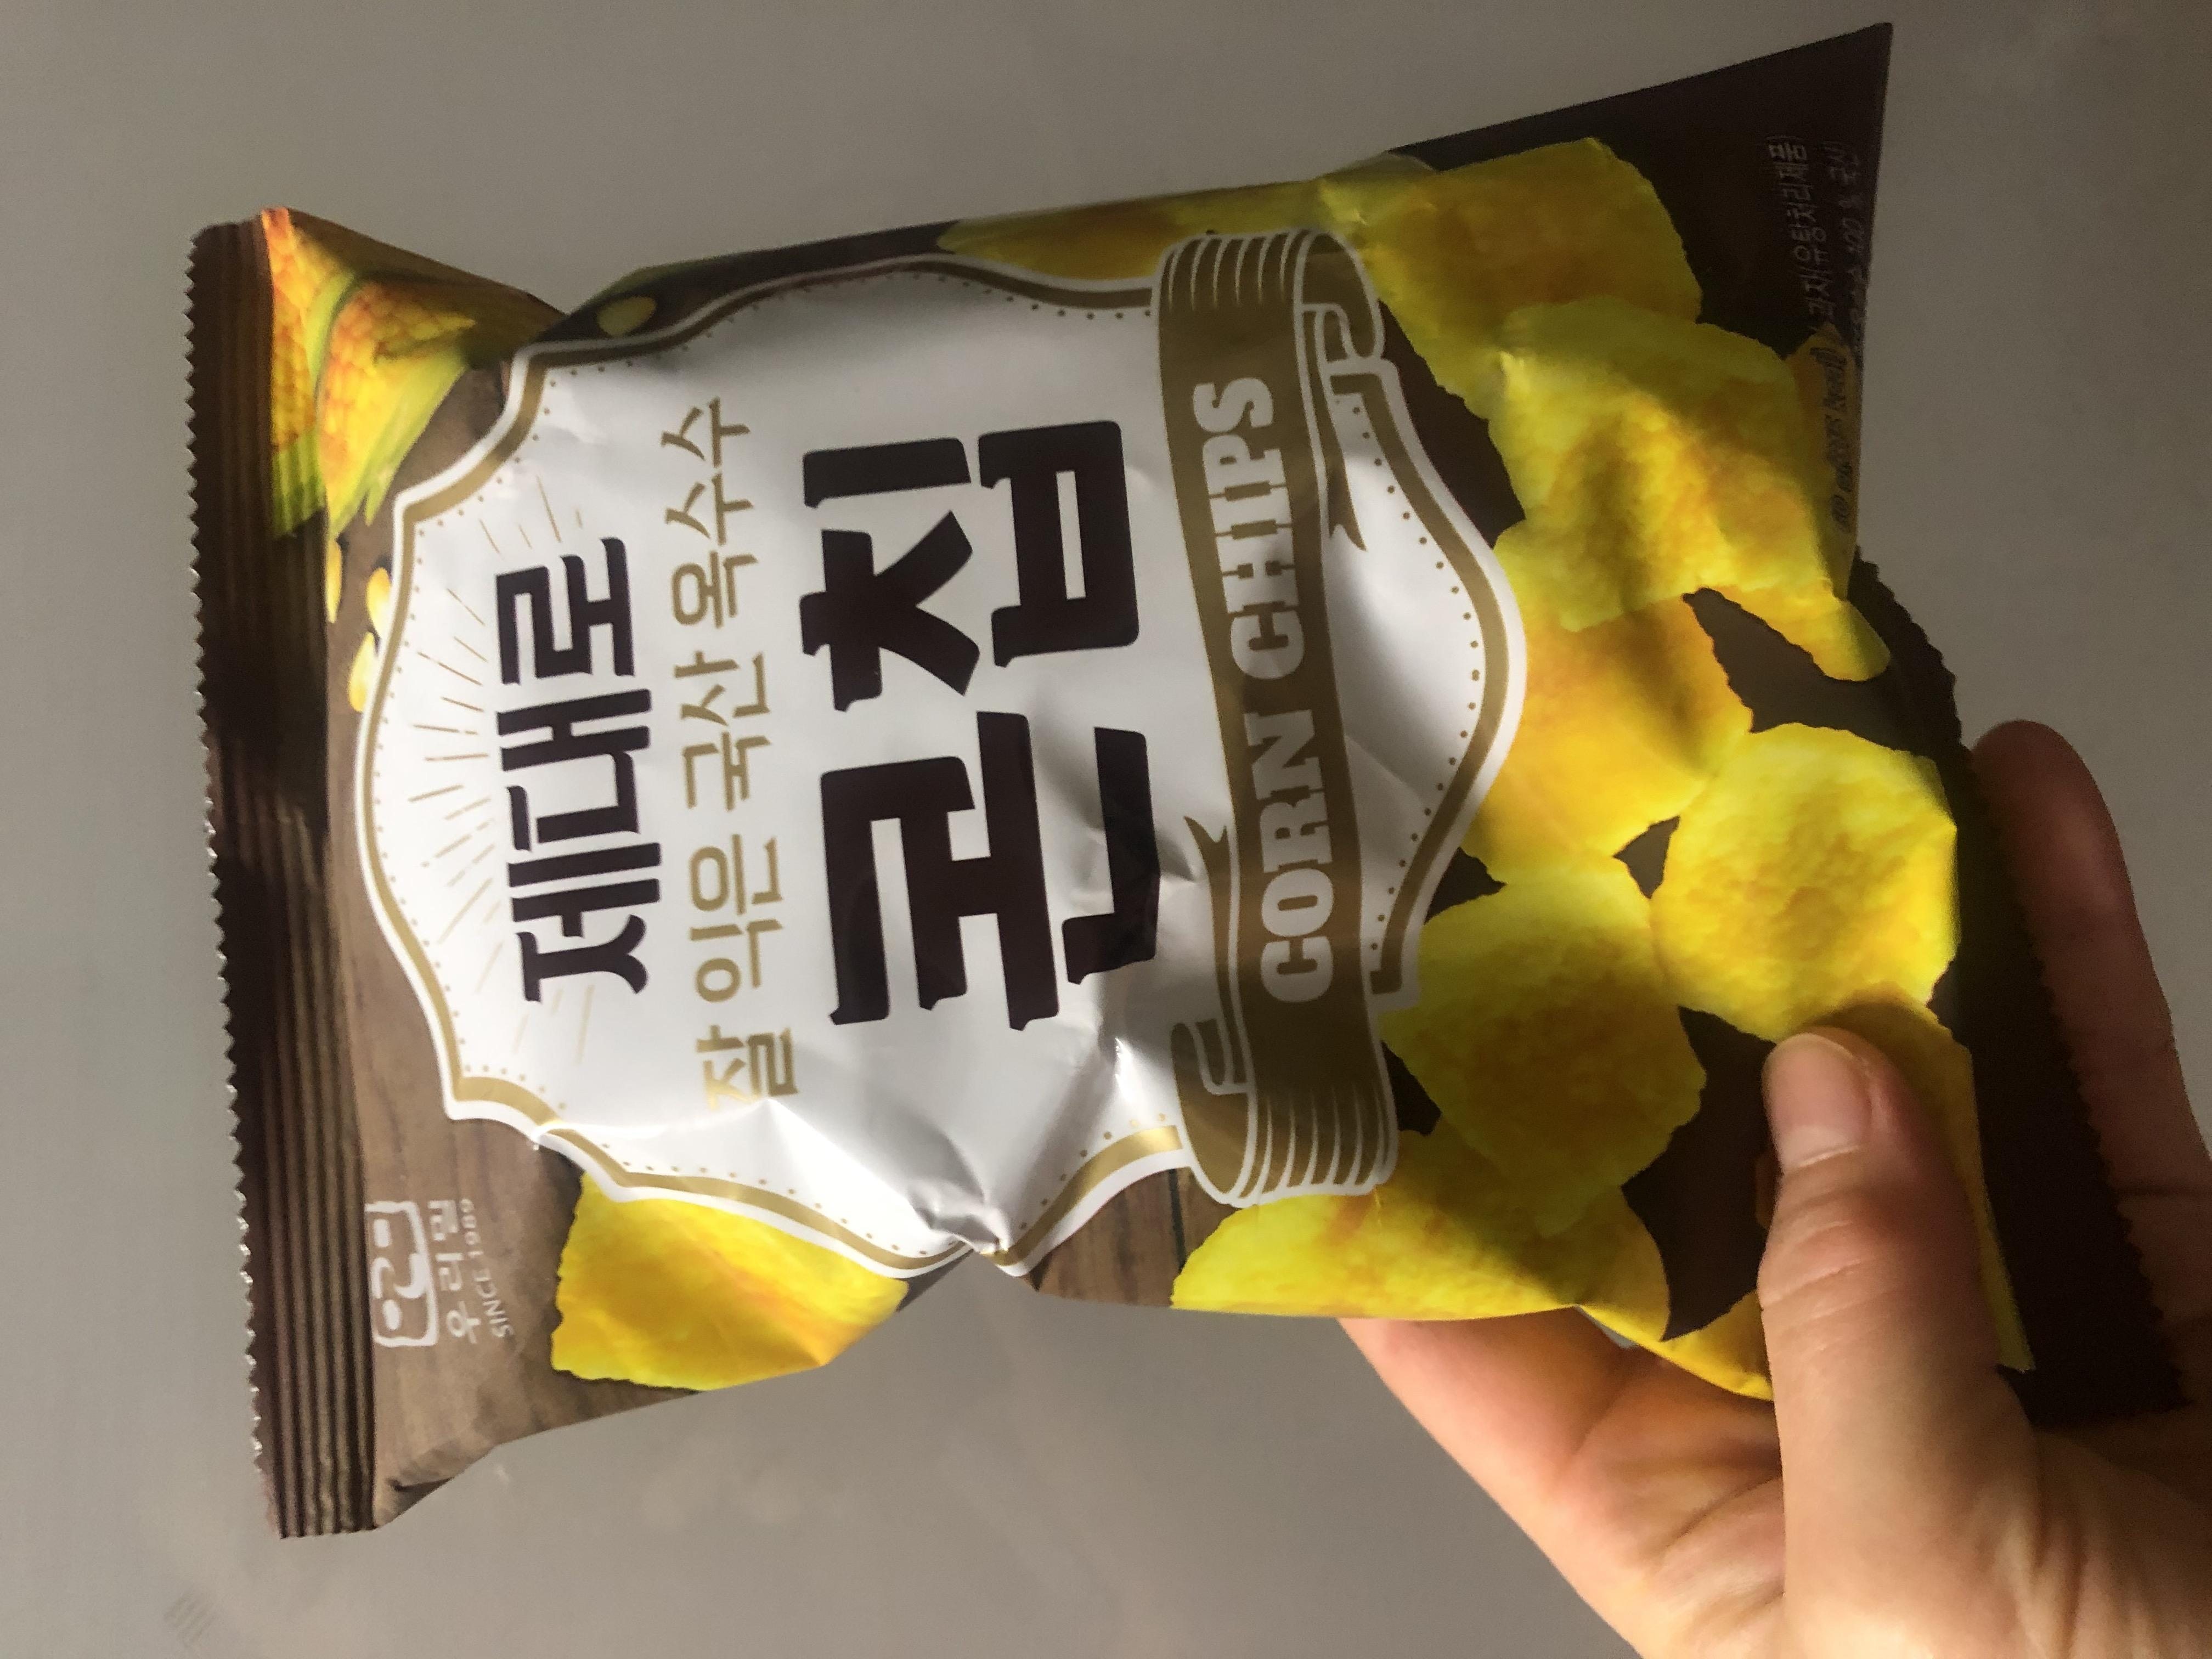snack: (158, 139, 2188, 1643)
